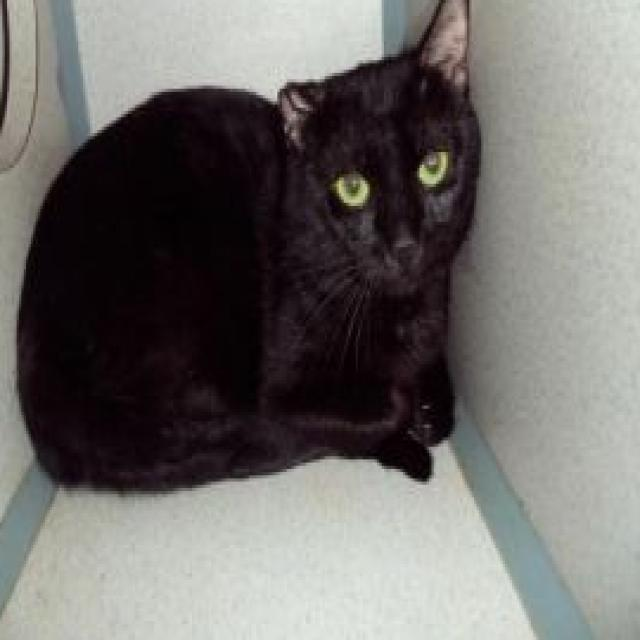Bombay: (12, 0, 486, 510)
